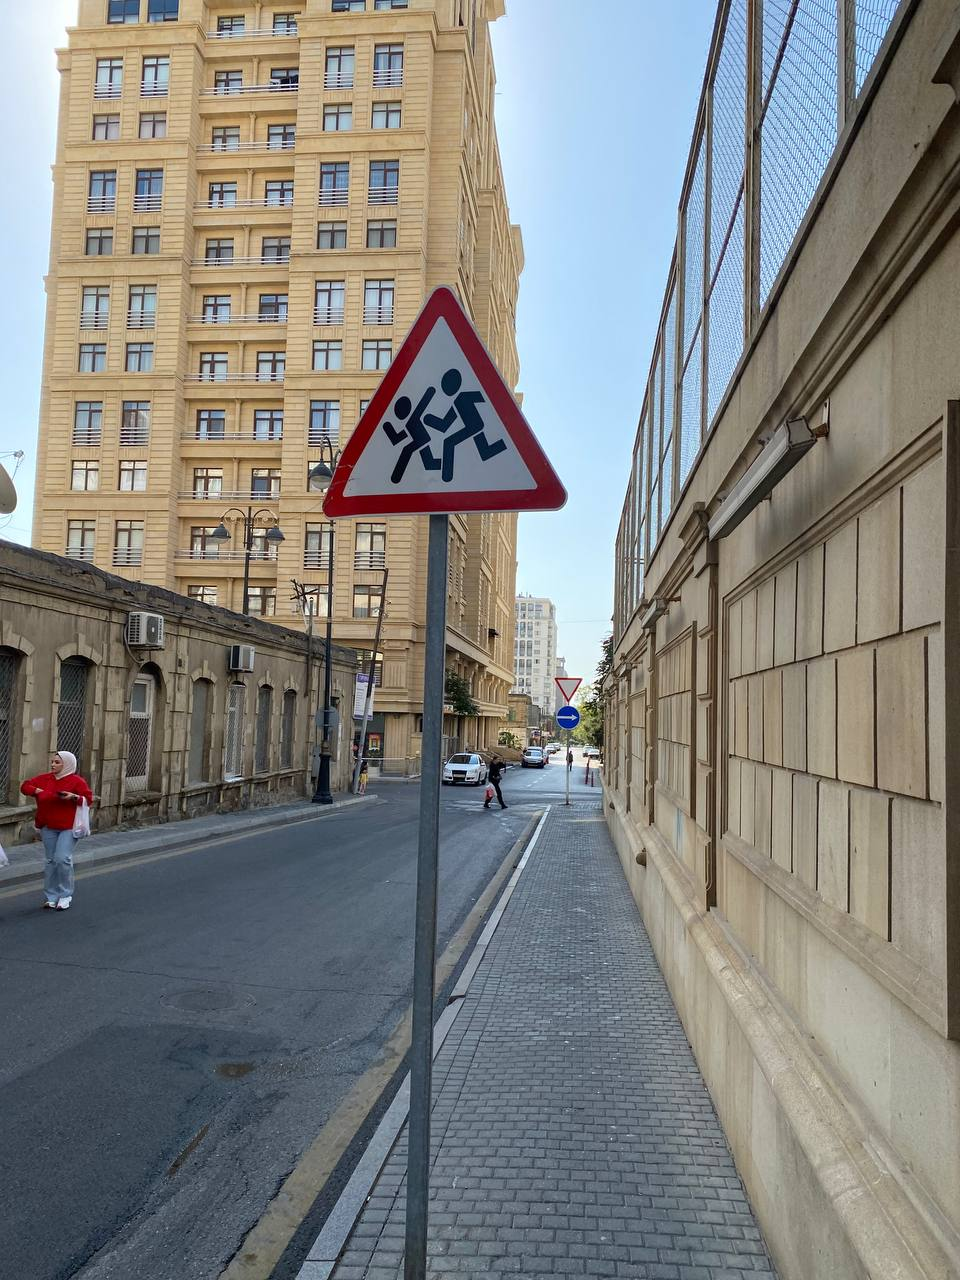Give Way: (554, 677, 583, 703)
Turn Right: (555, 706, 580, 730)
